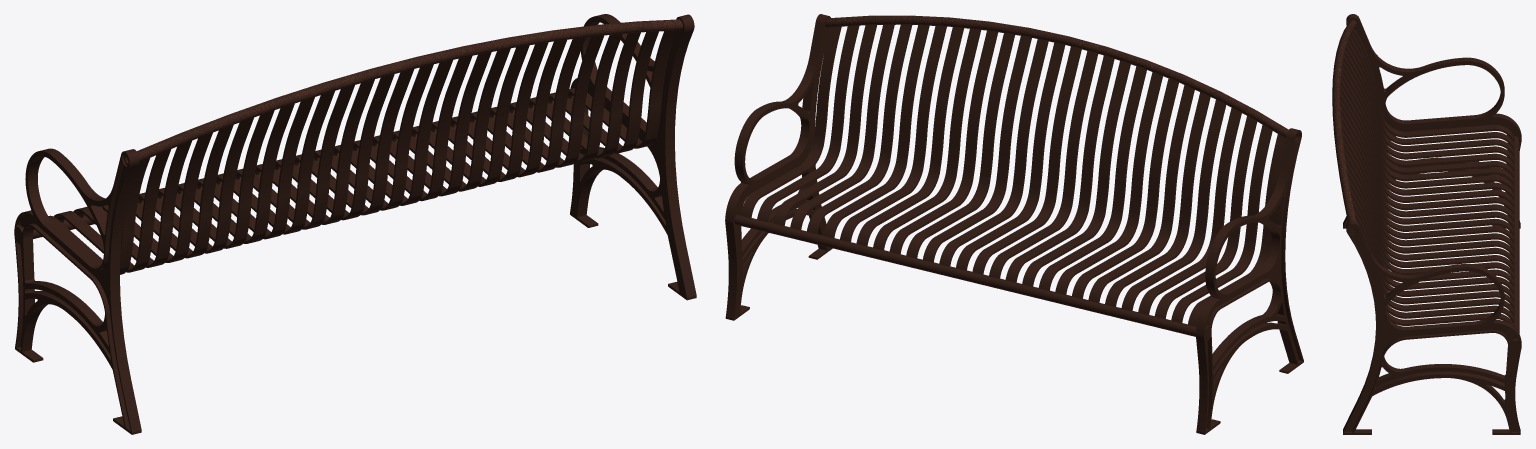
The picture shows the model from 3 angles, left to right: view 1: azimuth 30°, elevation 25°; view 2: azimuth 150°, elevation 25°; view 3: azimuth 270°, elevation 25°; orthographic projection. The views are drawn at different scales.
Visible parts, largest first — view 1: mesh64_mesh64-geometry, mesh80_mesh80-geometry, mesh96_mesh96-geometry, mesh12_mesh12-geometry, mesh13_mesh13-geometry, mesh30_mesh30-geometry, mesh6_mesh6-geometry, mesh11_mesh11-geometry, mesh14_mesh14-geometry, mesh16_mesh16-geometry, mesh15_mesh15-geometry, mesh17_mesh17-geometry (+19 smaller); view 2: mesh64_mesh64-geometry, mesh80_mesh80-geometry, mesh2_mesh2-geometry, mesh96_mesh96-geometry, mesh12_mesh12-geometry, mesh14_mesh14-geometry, mesh13_mesh13-geometry, mesh6_mesh6-geometry, mesh15_mesh15-geometry, mesh11_mesh11-geometry, mesh10_mesh10-geometry, mesh16_mesh16-geometry (+20 smaller); view 3: mesh80_mesh80-geometry, mesh64_mesh64-geometry, mesh96_mesh96-geometry, mesh10_mesh10-geometry, mesh13_mesh13-geometry, mesh6_mesh6-geometry, mesh11_mesh11-geometry, mesh12_mesh12-geometry, mesh14_mesh14-geometry, mesh9_mesh9-geometry, mesh15_mesh15-geometry, mesh8_mesh8-geometry (+19 smaller).
Part boxes in pixels (<box>): mesh64_mesh64-geometry: <box>14,148,141,434</box>; mesh80_mesh80-geometry: <box>570,14,696,300</box>; mesh96_mesh96-geometry: <box>137,19,682,161</box>; mesh12_mesh12-geometry: <box>294,69,414,215</box>; mesh13_mesh13-geometry: <box>314,64,433,210</box>; mesh30_mesh30-geometry: <box>54,149,171,272</box>; mesh6_mesh6-geometry: <box>274,74,394,220</box>; mesh11_mesh11-geometry: <box>255,79,374,224</box>; mesh14_mesh14-geometry: <box>333,60,452,205</box>; mesh16_mesh16-geometry: <box>372,52,491,196</box>; mesh15_mesh15-geometry: <box>353,55,472,201</box>; mesh17_mesh17-geometry: <box>392,48,510,191</box>; mesh64_mesh64-geometry: <box>1195,128,1303,434</box>; mesh80_mesh80-geometry: <box>725,14,832,320</box>; mesh2_mesh2-geometry: <box>734,214,1196,336</box>; mesh96_mesh96-geometry: <box>825,15,1288,138</box>; mesh12_mesh12-geometry: <box>972,46,1081,274</box>; mesh14_mesh14-geometry: <box>939,39,1048,266</box>; mesh13_mesh13-geometry: <box>956,42,1065,270</box>; mesh6_mesh6-geometry: <box>989,51,1098,278</box>; mesh15_mesh15-geometry: <box>922,36,1031,262</box>; mesh11_mesh11-geometry: <box>1005,55,1114,282</box>; mesh10_mesh10-geometry: <box>1022,61,1130,286</box>; mesh16_mesh16-geometry: <box>906,33,1014,258</box>; mesh80_mesh80-geometry: <box>1343,220,1521,434</box>; mesh64_mesh64-geometry: <box>1343,14,1521,228</box>; mesh96_mesh96-geometry: <box>1332,20,1357,221</box>; mesh10_mesh10-geometry: <box>1341,78,1514,214</box>; mesh13_mesh13-geometry: <box>1341,106,1514,243</box>; mesh6_mesh6-geometry: <box>1340,92,1514,228</box>; mesh11_mesh11-geometry: <box>1341,85,1514,221</box>; mesh12_mesh12-geometry: <box>1340,99,1514,235</box>; mesh14_mesh14-geometry: <box>1341,114,1514,250</box>; mesh9_mesh9-geometry: <box>1341,72,1514,207</box>; mesh15_mesh15-geometry: <box>1341,122,1514,257</box>; mesh8_mesh8-geometry: <box>1342,66,1514,199</box>.
Size of the model in its own units: 0.8372 by 0.4432 by 0.3204.
